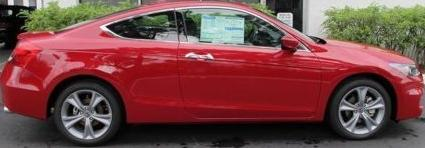backlight: (6, 35, 48, 66)
side_glass: (112, 7, 310, 58)
